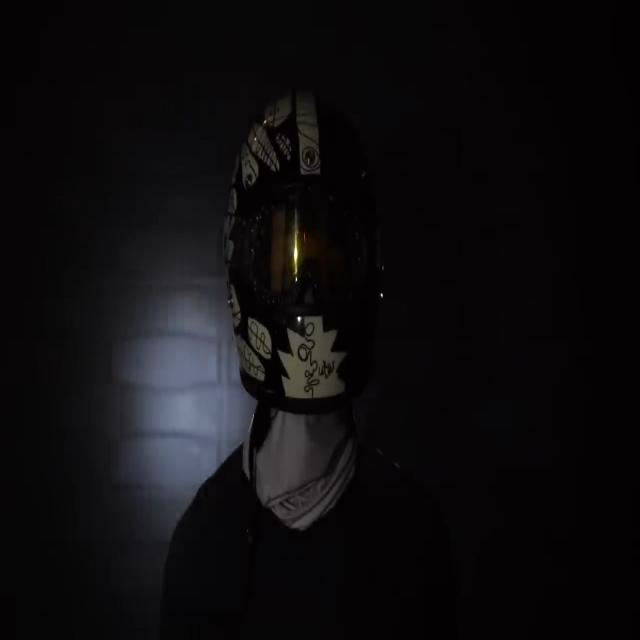Helmet_Wearer: (214, 90, 382, 419)
Person: (162, 80, 452, 640)
